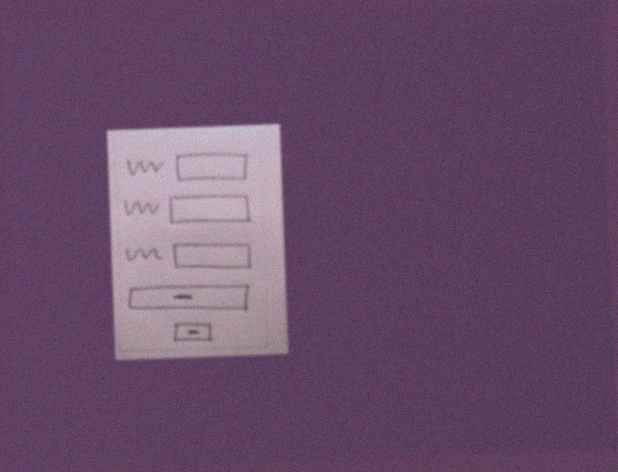button: (125, 281, 254, 320), (170, 321, 219, 347)
text: (124, 154, 168, 181), (124, 243, 164, 267), (122, 196, 160, 219)
text_input: (167, 191, 252, 229), (170, 239, 255, 275), (172, 149, 251, 184)
